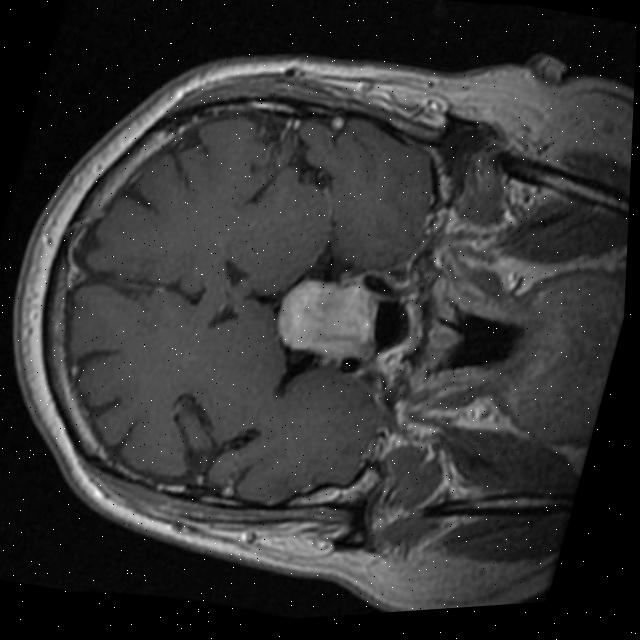Pituitary: (267, 266, 393, 370)
